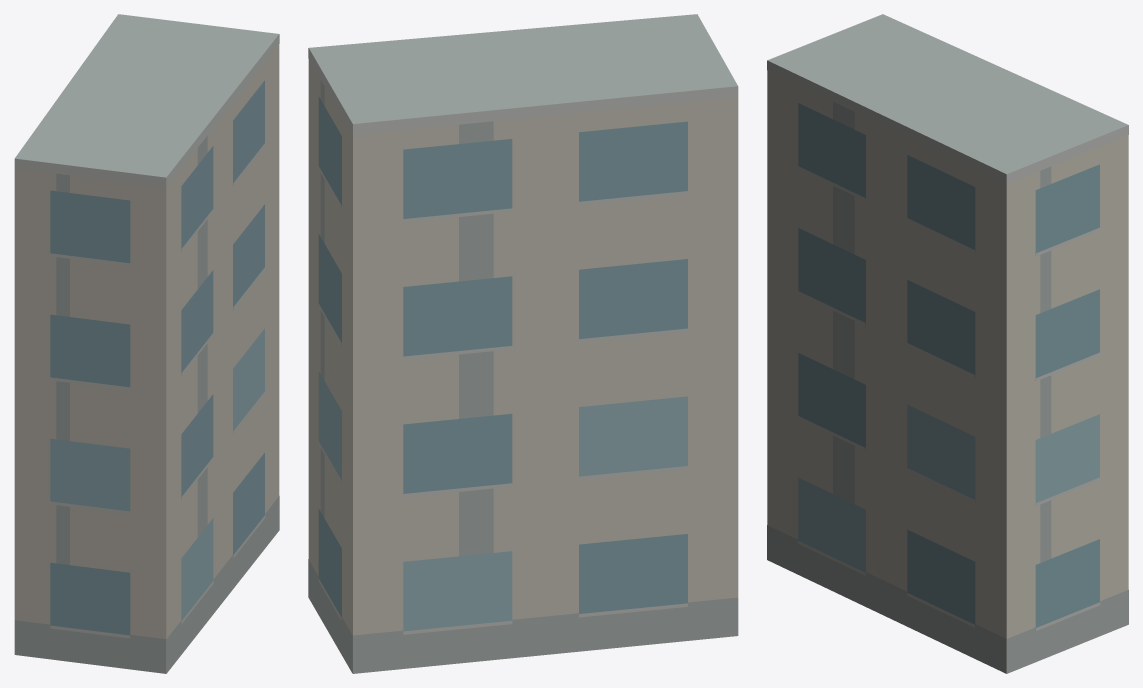
File: survey-upis-32988089.glb
3 views of the same model, side by side, from view 1: azimuth 30°, elevation 25°; view 2: azimuth 150°, elevation 25°; view 3: azimuth 270°, elevation 25° (orthographic). The views are drawn at different scales.
Visible parts, largest first — view 1: survey-upis-32988089.tmp; view 2: survey-upis-32988089.tmp; view 3: survey-upis-32988089.tmp.
Part boxes in pixels (box(x1,y1,x2,y2)): survey-upis-32988089.tmp: box(14, 14, 279, 673); survey-upis-32988089.tmp: box(308, 14, 738, 673); survey-upis-32988089.tmp: box(767, 14, 1128, 673).
Bounding box in the file's own units: 8.4 × 12.2 × 8.01.
